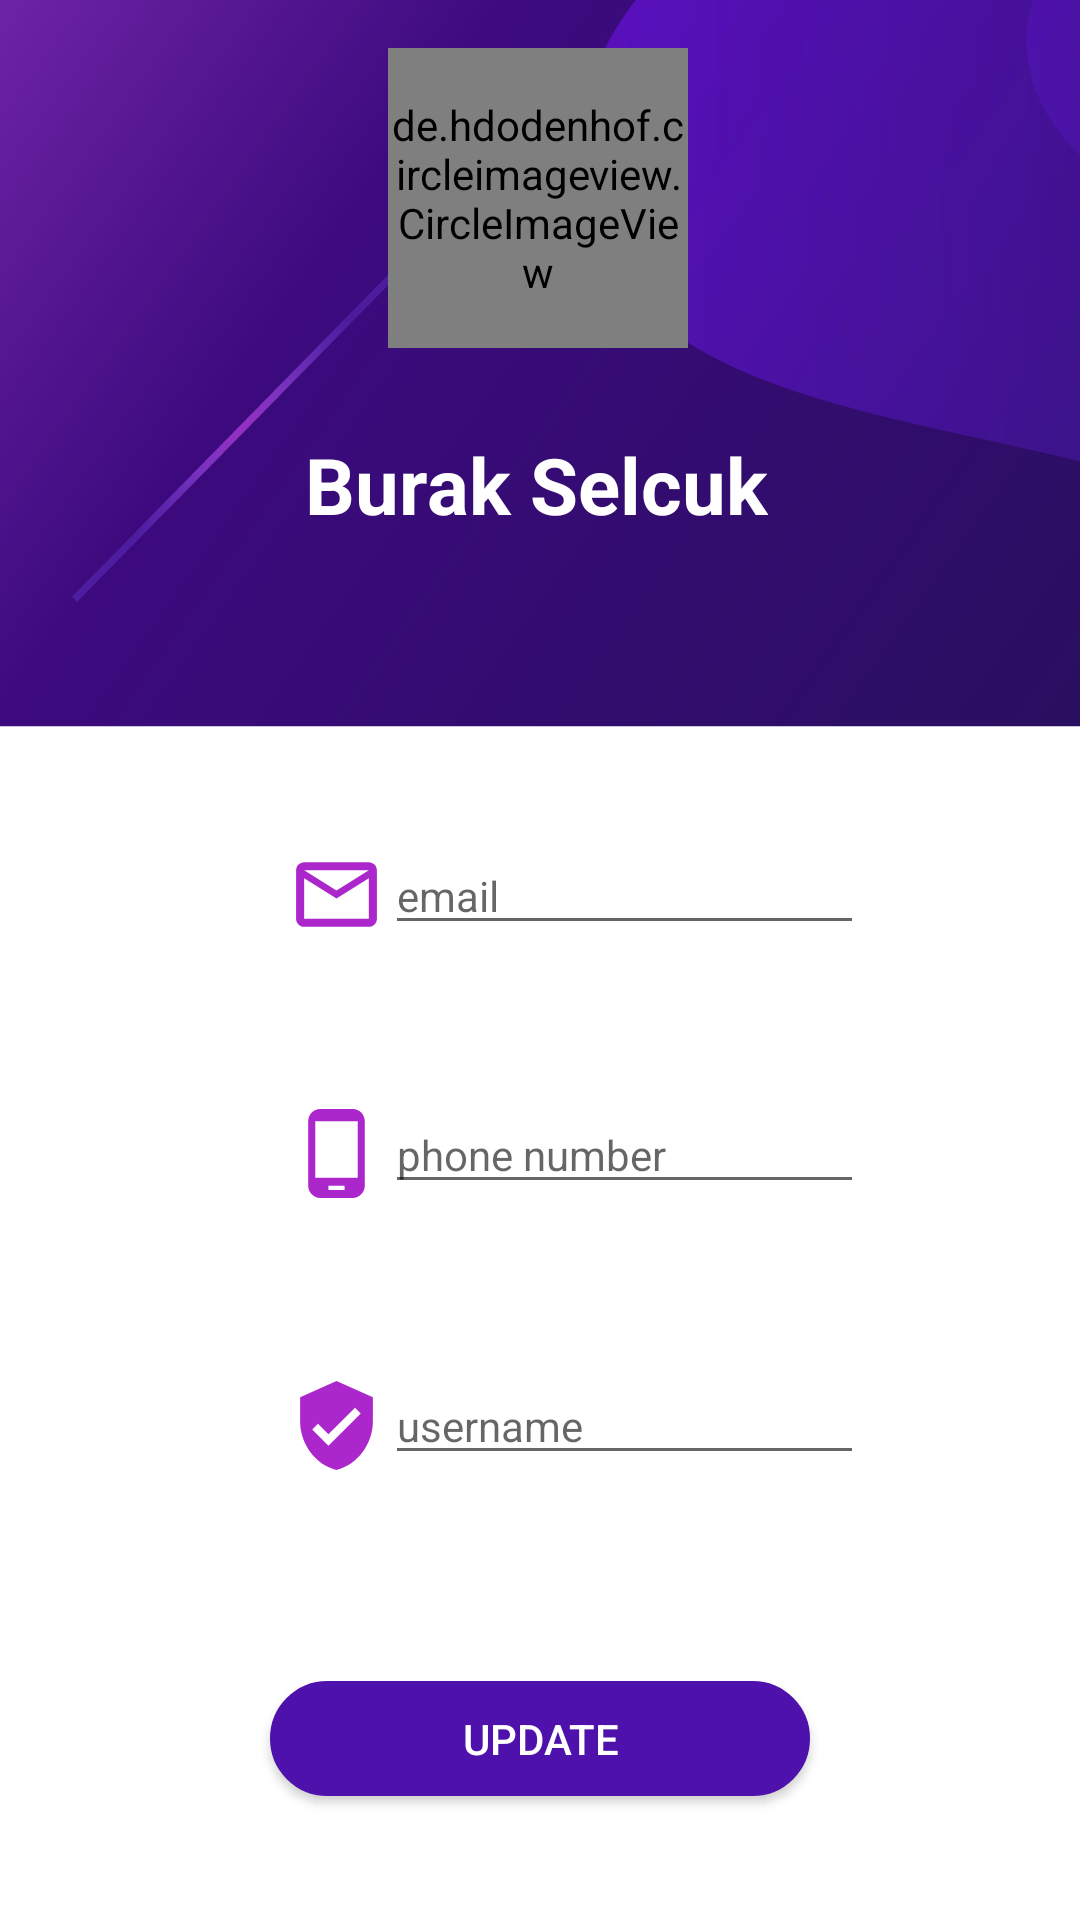

Named icons in this screenshot (1080×1920) and their bounding boxes, [x1, y1, x2, y2]:
phone android: [308, 1109, 365, 1198]
verified user: [300, 1381, 373, 1470]
